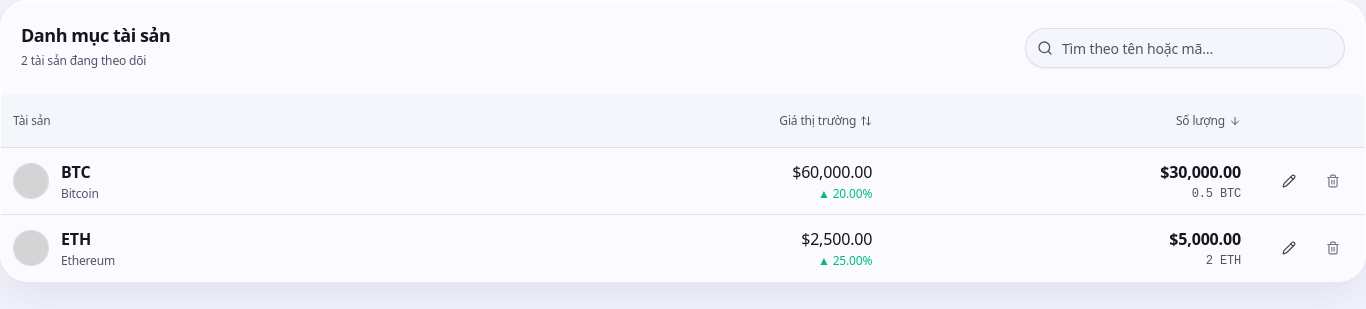
it: DashboardHoldingsTable › renders holdings in a semantic table and filters by ticker
Expected: the number of rows is 3, x1=1 y1=95 x2=1365 y2=148; x1=1 y1=148 x2=1365 y2=214; x1=1 y1=214 x2=1365 y2=281
In the search field named "Tìm tài sản": [1185, 48] box x1=1025 y1=28 x2=1345 y2=68, type "eth"
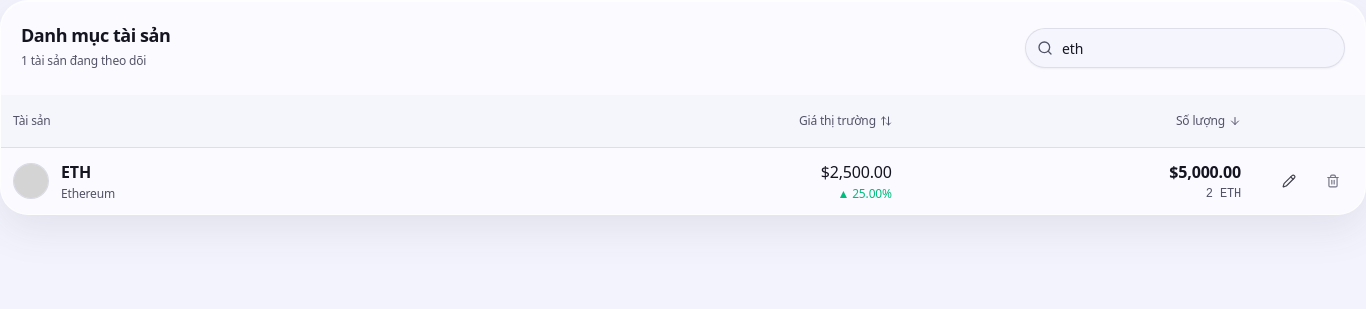
Expected: the text "Ethereum" is shown, x1=61 y1=186 x2=115 y2=202
Expected: the number of rows is 2, x1=1 y1=95 x2=1365 y2=148; x1=1 y1=148 x2=1365 y2=214
Expected: the text "Bitcoin" is gone
